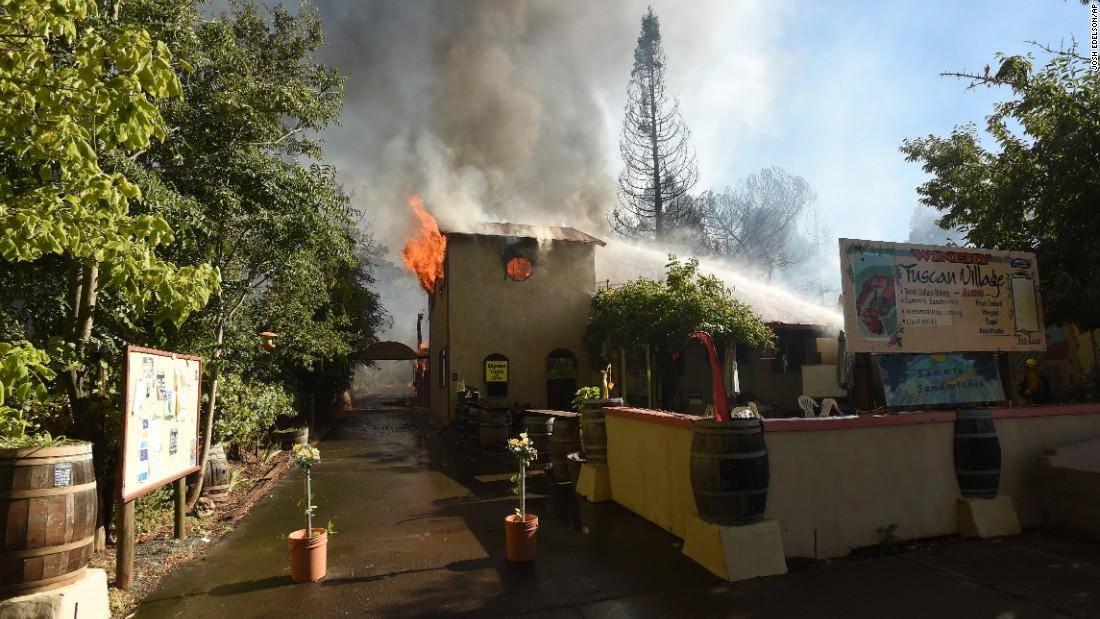fire: (394, 188, 459, 297)
